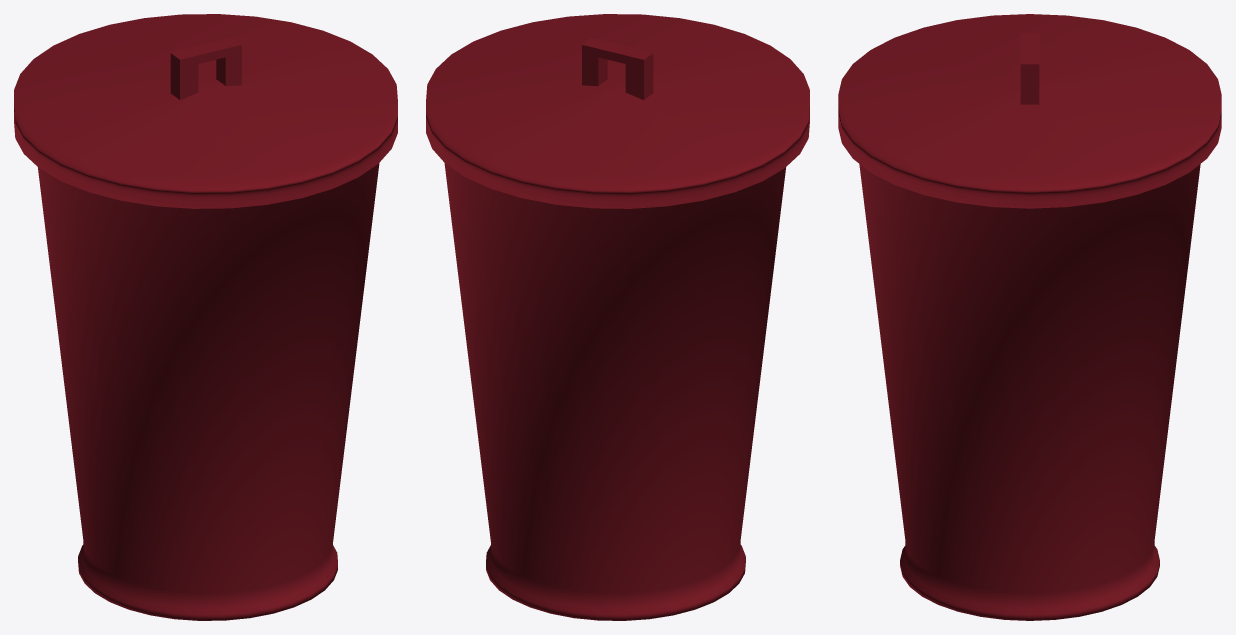
Rendered from Trashcan.fbx.
The picture shows the model from 3 angles, left to right: view 1: azimuth 30°, elevation 25°; view 2: azimuth 150°, elevation 25°; view 3: azimuth 270°, elevation 25°; orthographic projection.
Parts seen in each view (by area): view 1: Cylinder.055, Cylinder.056, Cube.341; view 2: Cylinder.055, Cylinder.056, Cube.341; view 3: Cylinder.055, Cylinder.056, Cube.341.
Boxes of the visible parts, <box> form: Cylinder.055: <box>38,163,379,620</box>; Cylinder.056: <box>14,14,397,208</box>; Cube.341: <box>170,38,241,99</box>; Cylinder.055: <box>444,163,785,620</box>; Cylinder.056: <box>426,14,809,208</box>; Cube.341: <box>582,38,653,99</box>; Cylinder.055: <box>859,164,1200,620</box>; Cylinder.056: <box>838,14,1221,208</box>; Cube.341: <box>1020,34,1039,104</box>.
Size of the model in its own units: 335 by 497 by 335.
